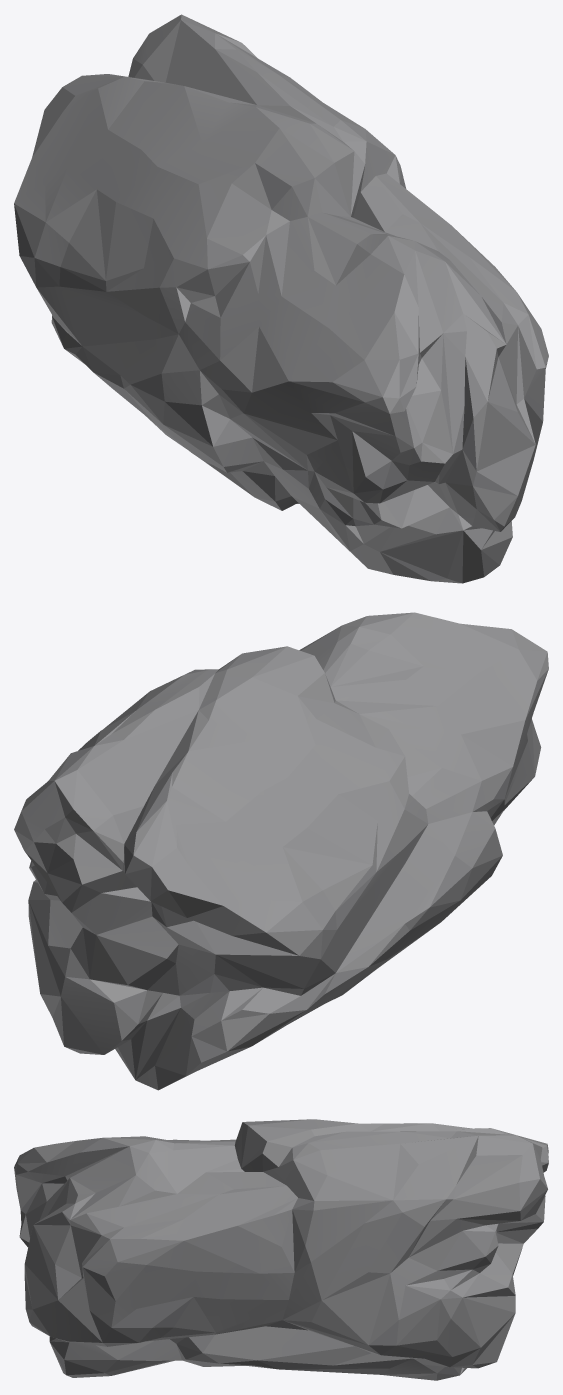
The model's file is Env_Rock_01.fbx.
3 views of the same model, one above another, from view 1: azimuth 30°, elevation 25°; view 2: azimuth 150°, elevation 25°; view 3: azimuth 270°, elevation 25° (orthographic). The views are drawn at different scales.
Parts seen in each view (by area): view 1: Rock_01; view 2: Rock_01; view 3: Rock_01.
Part boxes in pixels (x1,y1,x2,y2): Rock_01: (14,14,548,583); Rock_01: (14,612,548,1090); Rock_01: (14,1119,548,1380).
Size of the model in its own units: 443 by 475 by 899.
